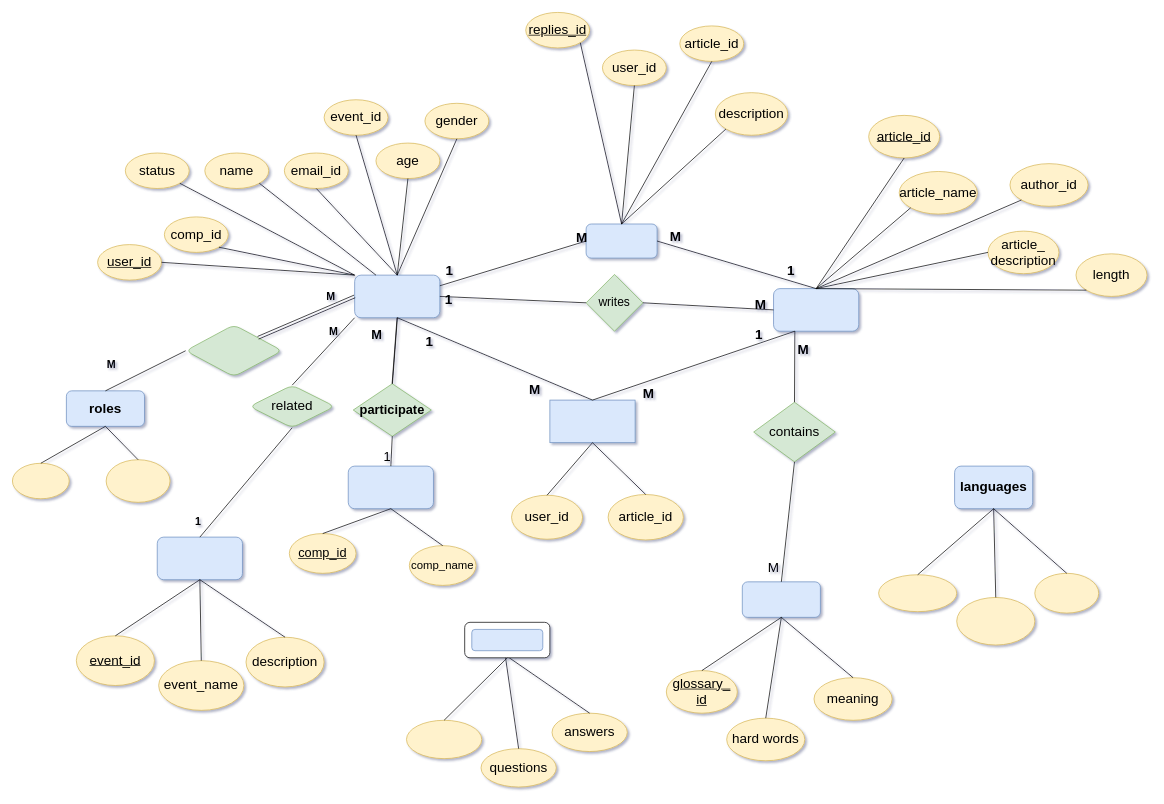
Some shapes in this 1164 by 804 pixel diagram are drawn without their labels. Here are the shapes that lost their labels. From the top down, the box of each, then its label:
(585, 223, 657, 258): replies
(354, 274, 440, 318): Users
(773, 288, 859, 331): Articles
(185, 324, 282, 377): users_roles
(549, 399, 635, 443): libraries
(12, 463, 69, 499): role_id
(105, 459, 170, 502): role_type
(348, 465, 433, 509): competitions
(157, 536, 242, 580): events
(742, 581, 820, 617): glossaries
(878, 574, 957, 612): language_ id
(1034, 573, 1099, 613): link
(471, 629, 543, 651): helps
(956, 597, 1035, 645): language_ name
(406, 720, 482, 759): help_id
